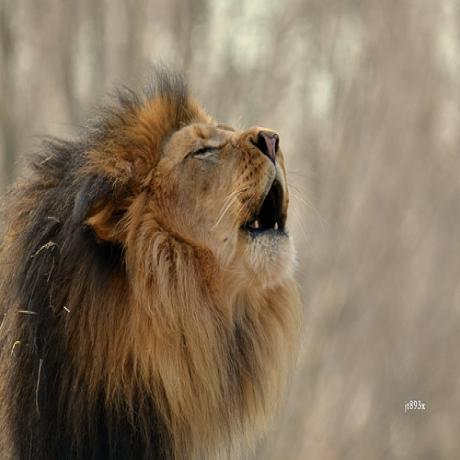Lion: (0, 66, 297, 460)
